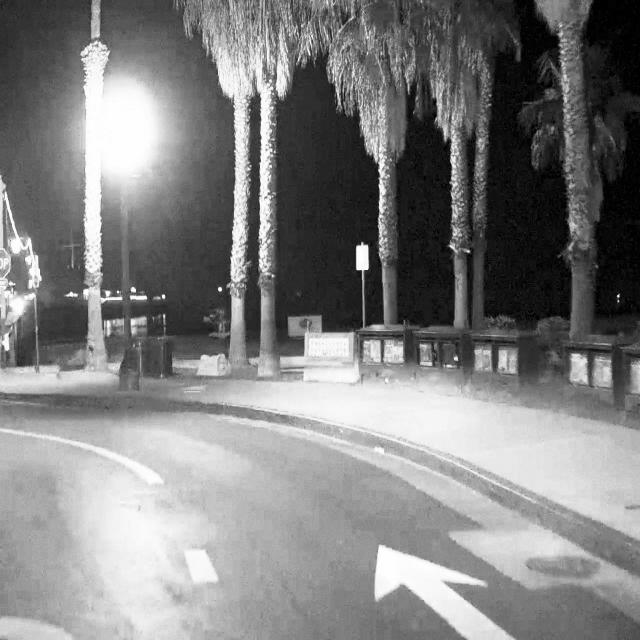Sign: (0, 248, 11, 280), (356, 246, 368, 271)
